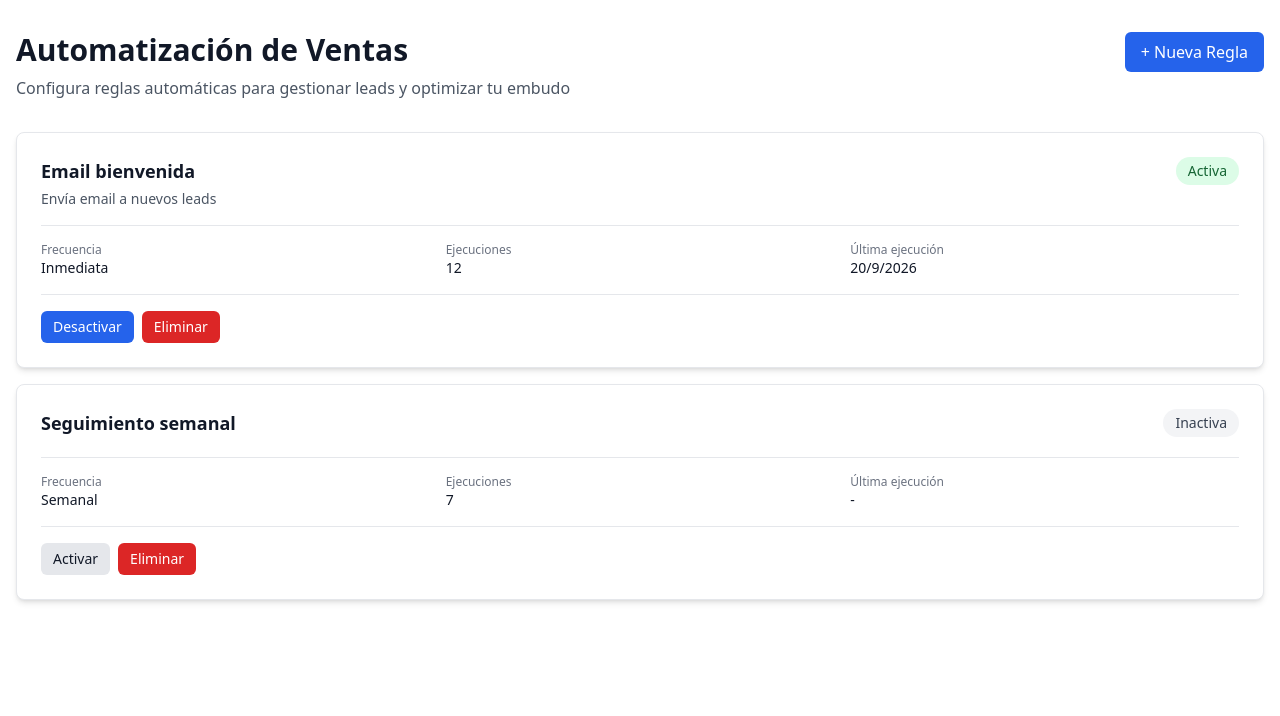
Scenario: AutomationPage › cancel closes the form and clears the validation error
The image size is (1280, 716).
Expected: the heading "Email bienvenida" is shown, [41,159,195,183]
Click the button "+ Nueva Regla": coordinates (1194, 52) [1125,32,1264,72]
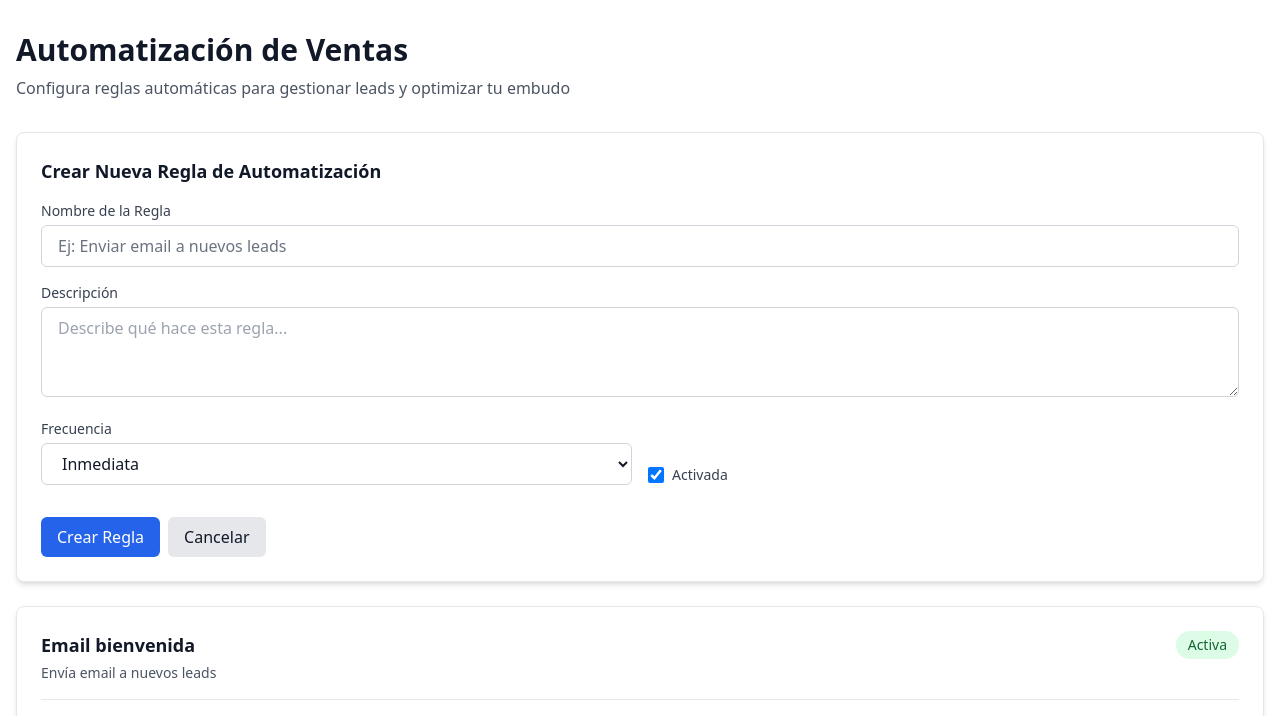
Click the button "Crear Regla": coordinates (101, 537) [41,517,160,557]
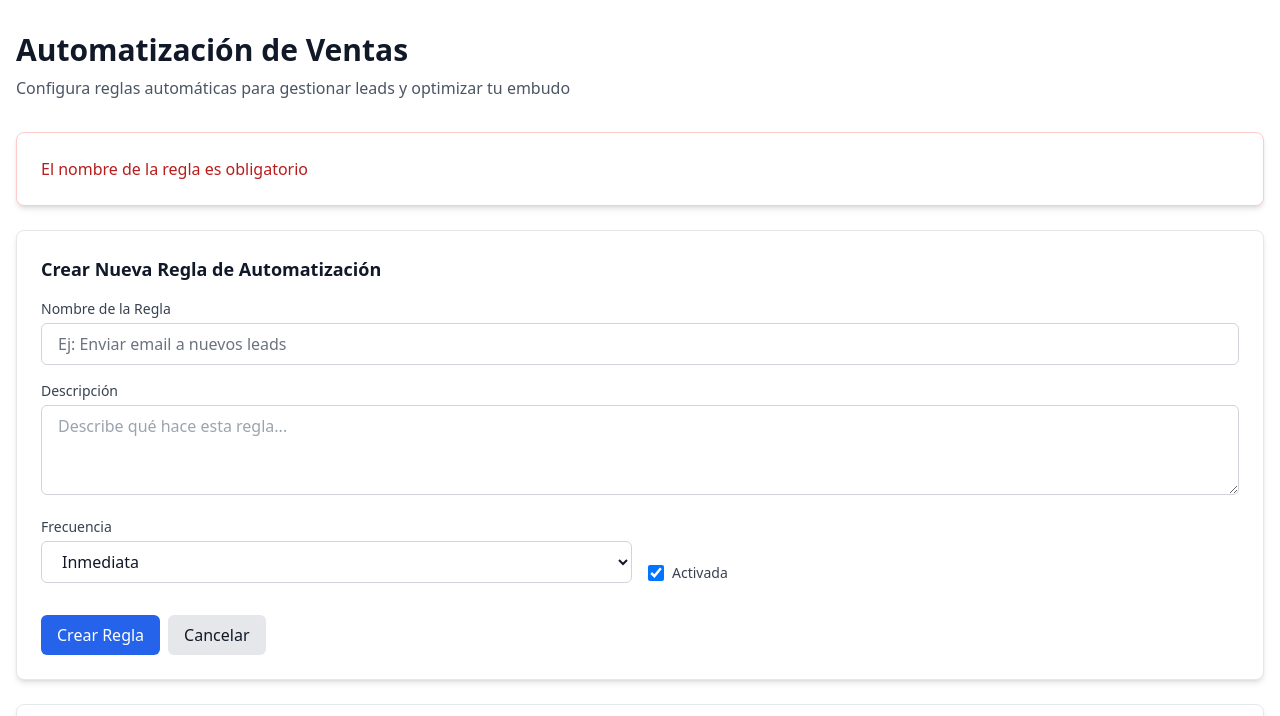
Result: the text "El nombre de la regla es obligatorio" is shown at [41,158,308,180]
Click the button "Cancelar": coordinates (217, 635) [168,615,266,655]
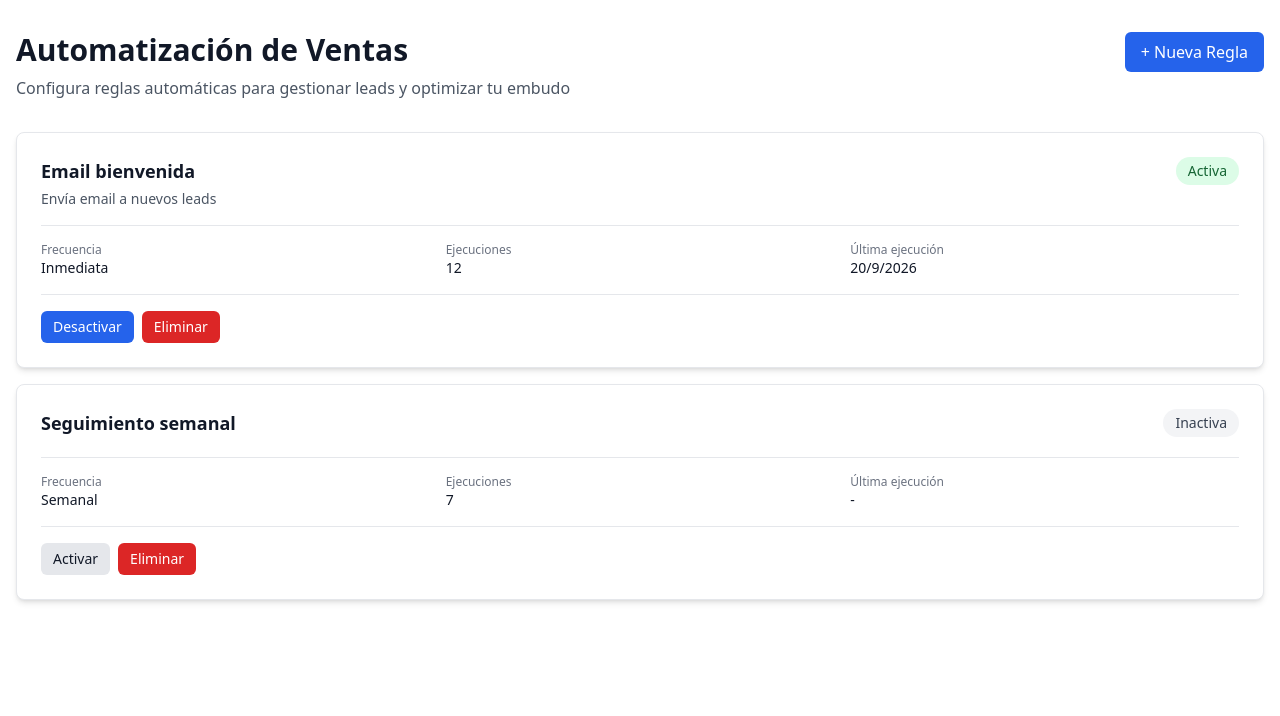
Result: the text "El nombre de la regla es obligatorio" is gone
Result: the heading "Crear Nueva Regla de Automatización" is gone
